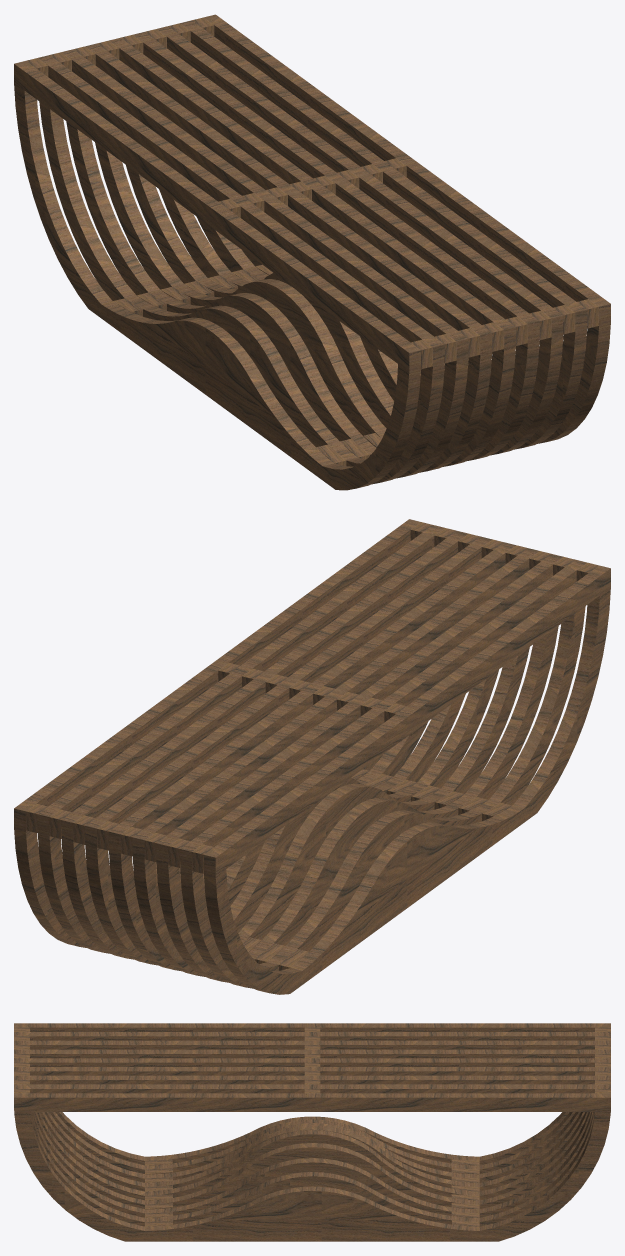
Rendered from bench5.dae.
3 views of the same model, one above another, from view 1: azimuth 30°, elevation 25°; view 2: azimuth 150°, elevation 25°; view 3: azimuth 270°, elevation 25° (orthographic). The views are drawn at different scales.
Visible parts, largest first — view 1: Group_14 (×3), Group_10 (×4), Group_13 (×3), Group_11 (×3), Group_17 (×2); view 2: Group_14 (×3), Group_10 (×4), Group_13 (×3), Group_11 (×3), Group_17 (×2); view 3: Group_14 (×4), Group_10 (×4), Group_11 (×4), Group_13 (×4), Group_17 (×2).
Boxes of the visible parts, x1,y1,x2,y2 form: Group_14 (×3): (14, 14, 610, 490); Group_10 (×4): (85, 32, 539, 472); Group_13 (×3): (38, 20, 587, 484); Group_11 (×3): (62, 26, 563, 478); Group_17 (×2): (109, 37, 515, 466); Group_14 (×3): (14, 519, 610, 994); Group_10 (×4): (85, 536, 539, 976); Group_13 (×3): (37, 525, 586, 988); Group_11 (×3): (61, 531, 562, 982); Group_17 (×2): (109, 542, 515, 971); Group_14 (×4): (14, 1023, 610, 1241); Group_10 (×4): (14, 1049, 610, 1208); Group_11 (×4): (14, 1040, 610, 1217); Group_13 (×4): (14, 1032, 610, 1226); Group_17 (×2): (14, 1058, 610, 1200).
Bounding box in the file's own units: 17.4 × 59.07 × 15.74.
1 material, 1 textured.
